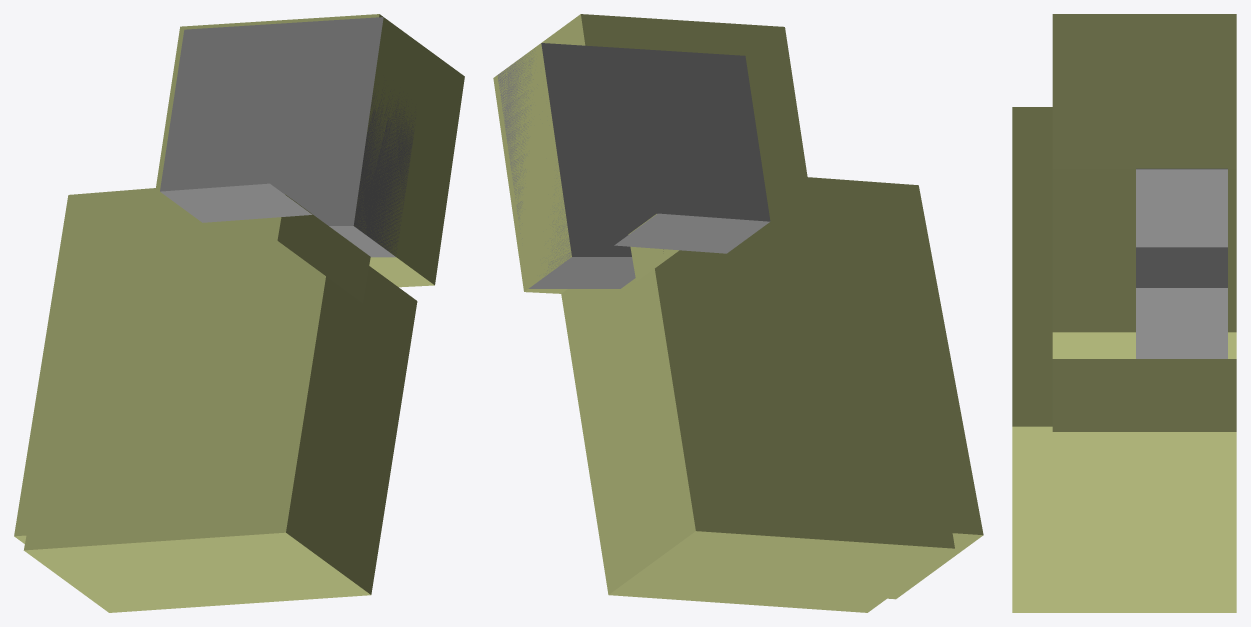
The picture shows the model from 3 angles, left to right: view 1: azimuth 30°, elevation 25°; view 2: azimuth 150°, elevation 25°; view 3: azimuth 270°, elevation 25°; orthographic projection. The views are drawn at different scales.
Visible parts, largest first — view 1: 0_3_2_3_1_2_2_0_1_1; view 2: 0_3_2_3_1_2_2_0_1_1; view 3: 0_3_2_3_1_2_2_0_1_1.
Boxes of the visible parts, x1=… form: 0_3_2_3_1_2_2_0_1_1: x1=14, y1=14, x2=464, y2=612; 0_3_2_3_1_2_2_0_1_1: x1=493, y1=14, x2=983, y2=612; 0_3_2_3_1_2_2_0_1_1: x1=1012, y1=14, x2=1236, y2=612.
Size of the model in its own units: 15.19 by 19.9 by 7.32.
